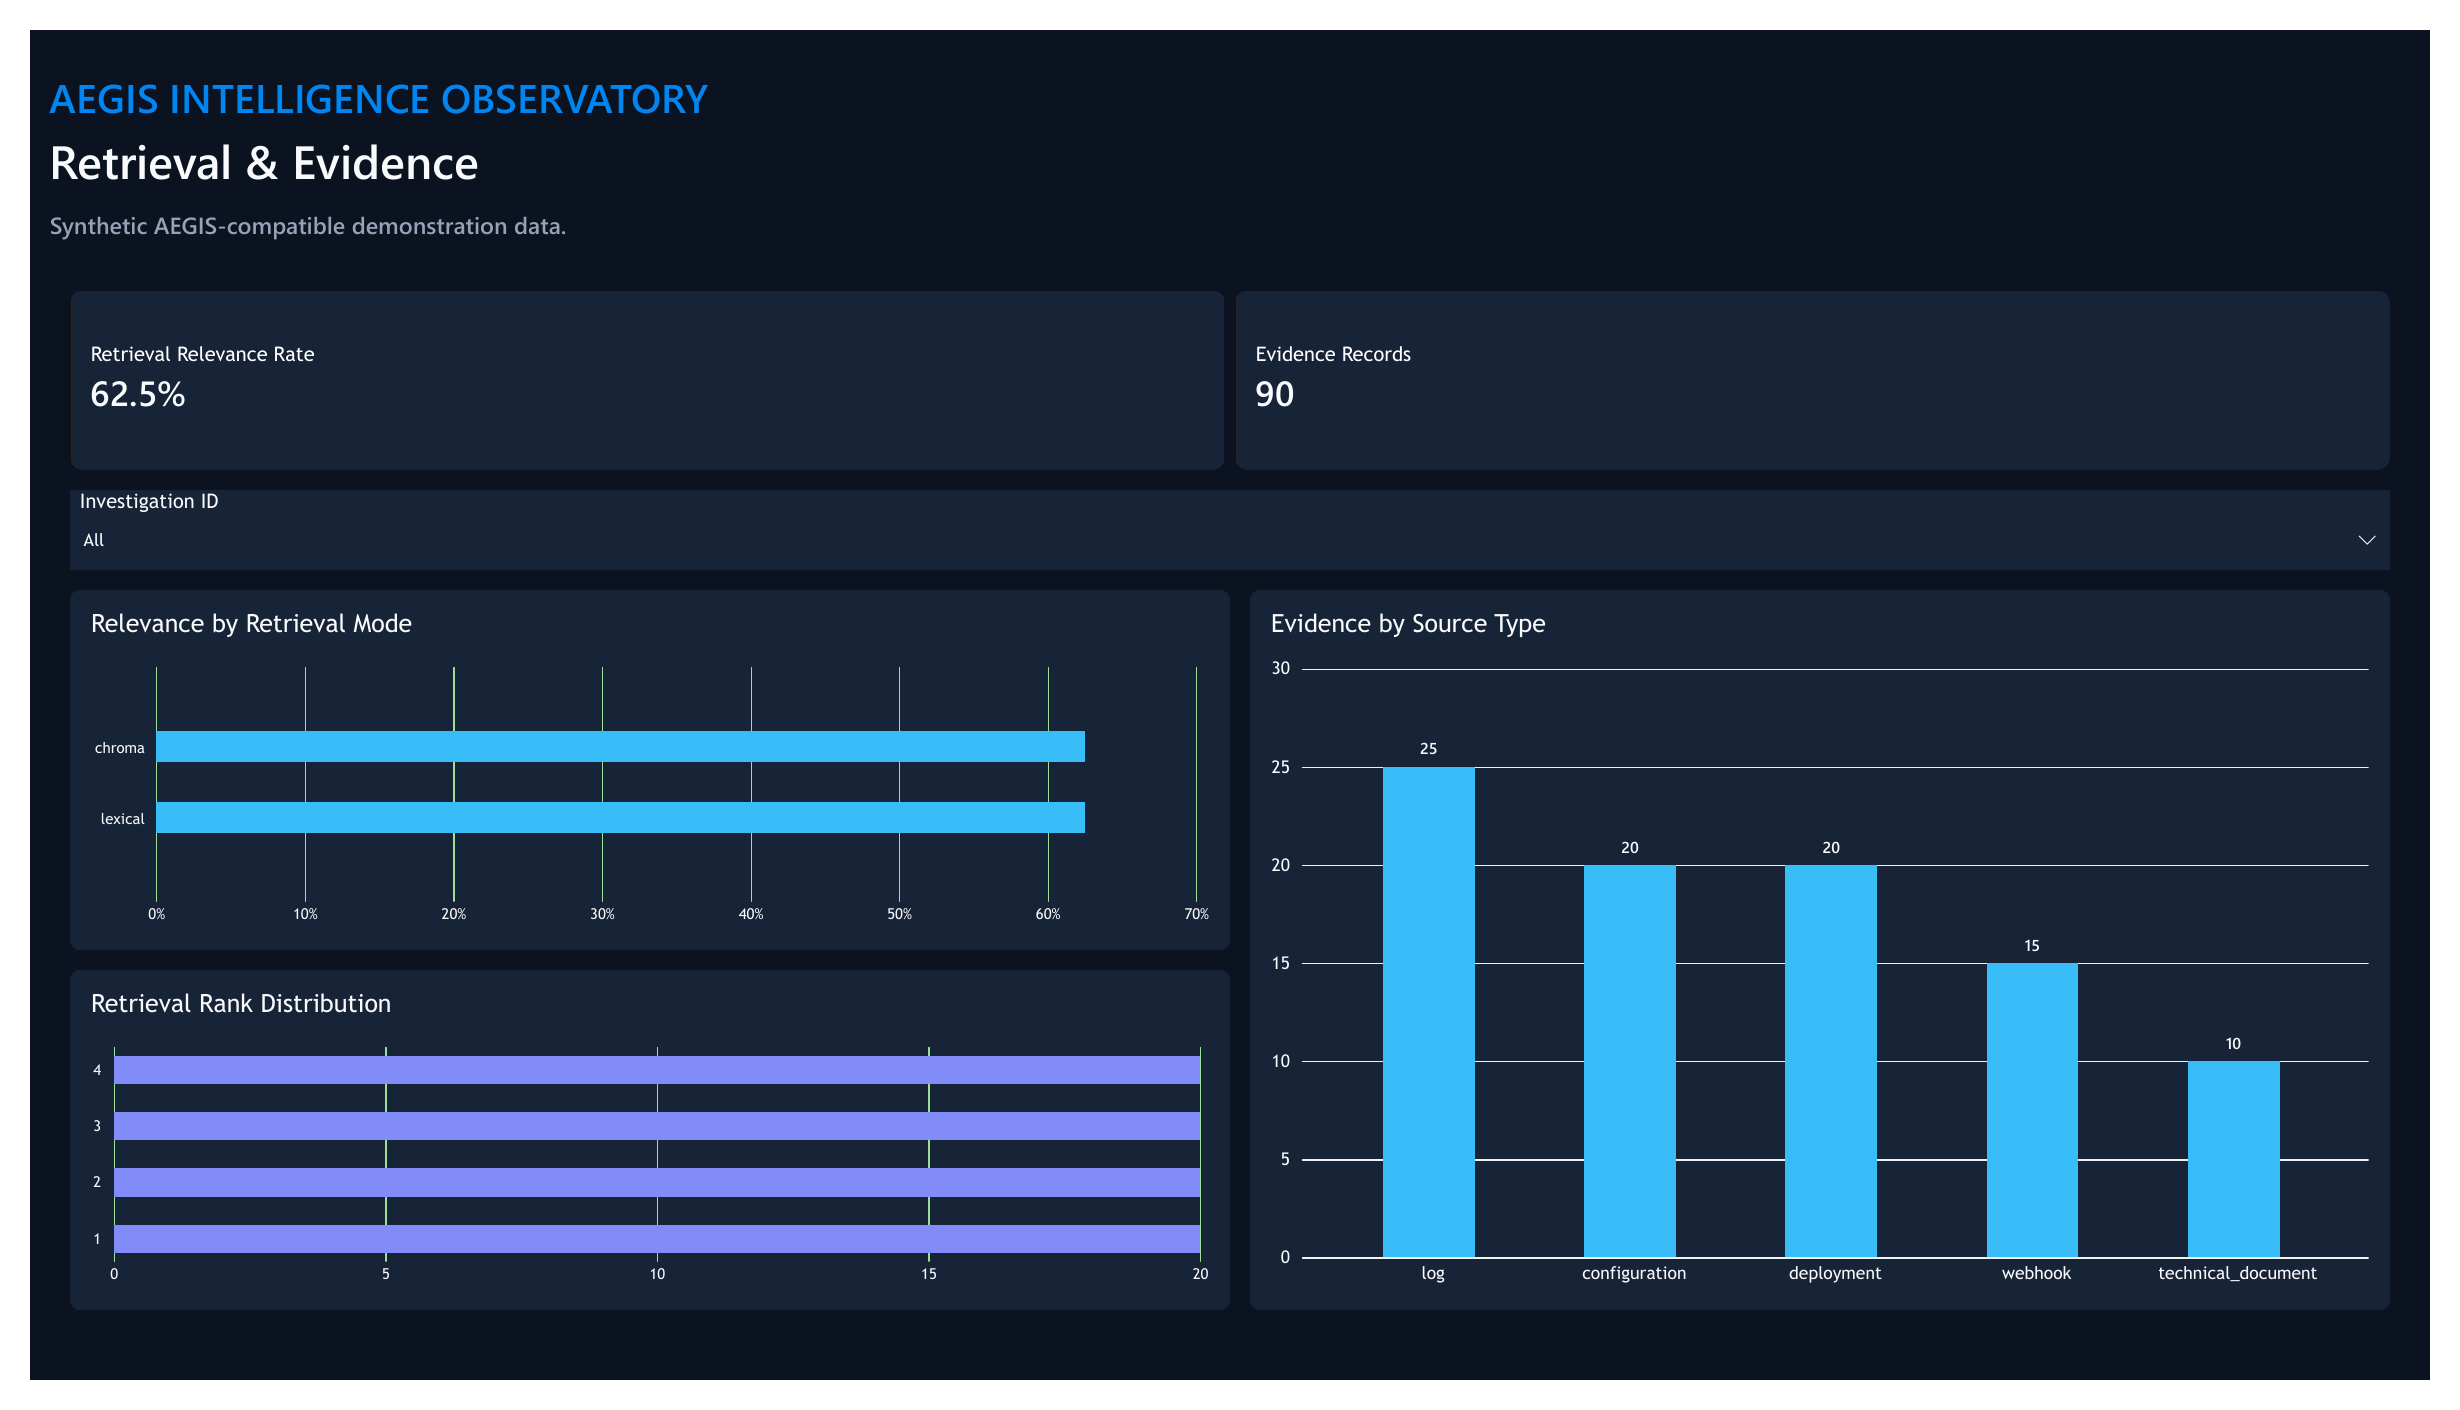

Layout of this report page (visuals, bound fields, positions):
{"tool":"powerbi","page":{"name":"Retrieval & Evidence","canvas":[1920,1080],"ordinal":1},"visuals":[{"type":"cardVisual","fields":{"Data":["retrieval_events.Retrieval Relevance Rate","evidence_records.Evidence Records"]},"box":[32,208,1856,144],"z":0},{"type":"textbox","box":[16,32,544,48],"z":1000},{"type":"textbox","box":[16,144,416,32],"z":2000},{"type":"textbox","box":[16,80,368,64],"z":3000},{"type":"clusteredBarChart","title":"Relevance by Retrieval Mode","fields":{"Category":["investigations.retrieval_mode"],"Y":["retrieval_events.Retrieval Relevance Rate"]},"box":[32,448,928,288],"z":4000},{"type":"clusteredBarChart","title":"Retrieval Rank Distribution","fields":{"Category":["retrieval_events.rank"],"Y":["retrieval_events.Retrieval Events"]},"box":[32,752,928,272],"z":5000},{"type":"clusteredColumnChart","title":"Evidence by Source Type","fields":{"Category":["evidence_records.source_type"],"Y":["CountNonNull(evidence_records.evidence_id)"]},"box":[976,448,912,576],"z":6000},{"type":"slicer","title":"Investigation ID","fields":{"Values":["evidence_records.investigation_id"]},"box":[32,368,1856,64],"z":7000}]}

Visuals, with their boxes in screenshot pixels (x1, y1, x2, y2), scaled from the page's 1920x1080 canvas onto the 2460x1410 screenshot:
cardVisual - retrieval_events.Retrieval Relevance Rate x evidence_records.Evidence Records: <region>41, 272, 2419, 460</region>
textbox: <region>20, 42, 718, 104</region>
textbox: <region>20, 188, 554, 230</region>
textbox: <region>20, 104, 492, 188</region>
"Relevance by Retrieval Mode" clusteredBarChart: <region>41, 585, 1230, 961</region>
"Retrieval Rank Distribution" clusteredBarChart: <region>41, 982, 1230, 1337</region>
"Evidence by Source Type" clusteredColumnChart: <region>1250, 585, 2419, 1337</region>
"Investigation ID" slicer: <region>41, 480, 2419, 564</region>
